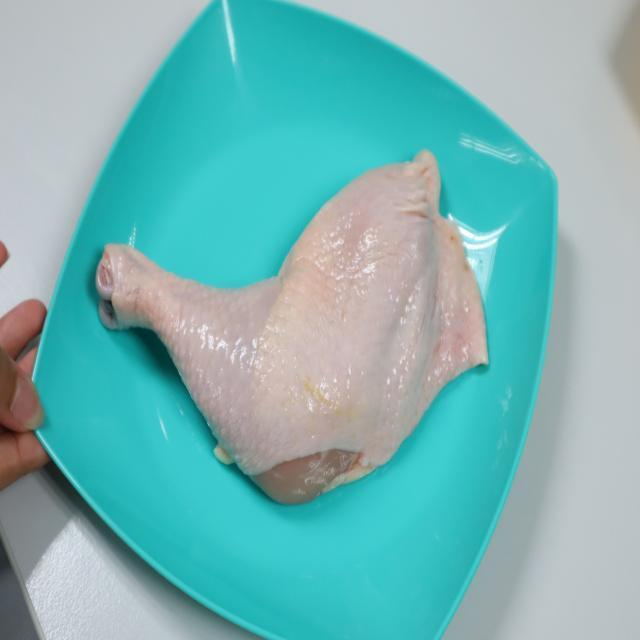quater: (88, 148, 484, 502)
